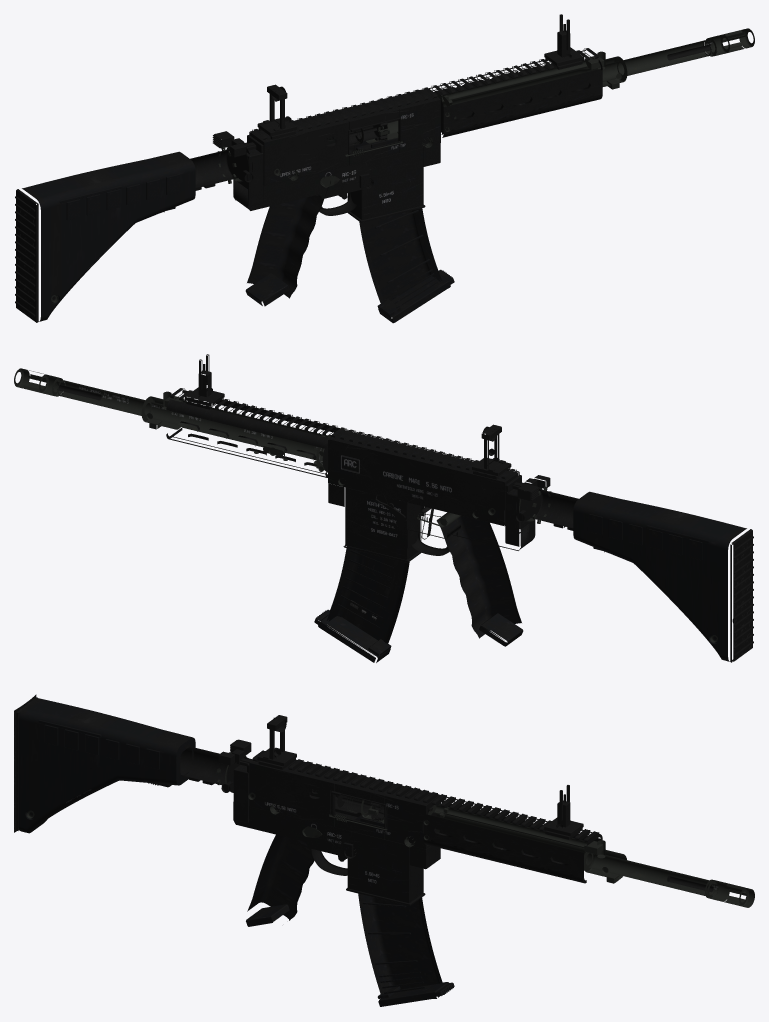
The picture shows the model from 3 angles, top to bottom: view 1: azimuth 30°, elevation 25°; view 2: azimuth 150°, elevation 25°; view 3: azimuth 330°, elevation 25°; orthographic projection.
Visible parts, largest first — view 1: stock_shell, upper_body, lower_body, handguard_mlok, pmag_body, pistol_grip, butt_pad, barrel, pmag_base, buffer_tube, handguard_rail, upper_rail (+6 smaller); view 2: stock_shell, upper_body, lower_body, pmag_body, pistol_grip, barrel, handguard_mlok, butt_pad, pmag_base, buffer_tube, handguard_rail, upper_rail (+7 smaller); view 3: stock_shell, lower_body, upper_body, pmag_body, handguard_mlok, pistol_grip, barrel, upper_rail, handguard_rail, buffer_tube, pmag_base, gas_tube (+7 smaller).
Boxes of the visible parts, left/top/right/bottom form: stock_shell: left=22, top=151, right=195, bottom=321; upper_body: left=247, top=89, right=441, bottom=186; lower_body: left=233, top=142, right=440, bottom=222; handguard_mlok: left=429, top=50, right=602, bottom=137; pmag_body: left=354, top=137, right=442, bottom=308; pistol_grip: left=247, top=187, right=328, bottom=298; butt_pad: left=15, top=189, right=38, bottom=322; barrel: left=366, top=37, right=717, bottom=143; pmag_base: left=377, top=269, right=454, bottom=323; buffer_tube: left=190, top=149, right=241, bottom=190; handguard_rail: left=431, top=48, right=598, bottom=96; upper_rail: left=252, top=87, right=437, bottom=139; stock_shell: left=573, top=491, right=746, bottom=661; upper_body: left=323, top=429, right=521, bottom=526; lower_body: left=328, top=482, right=535, bottom=562; pmag_body: left=326, top=489, right=409, bottom=643; pistol_grip: left=436, top=512, right=521, bottom=638; barrel: left=52, top=377, right=327, bottom=470; handguard_mlok: left=166, top=390, right=339, bottom=477; butt_pad: left=730, top=529, right=753, bottom=662; pmag_base: left=314, top=609, right=391, bottom=662; buffer_tube: left=527, top=489, right=578, bottom=530; handguard_rail: left=170, top=388, right=337, bottom=436; upper_rail: left=331, top=427, right=516, bottom=479; stock_shell: left=18, top=698, right=195, bottom=833; lower_body: left=230, top=757, right=440, bottom=905; upper_body: left=247, top=759, right=440, bottom=849; pmag_body: left=355, top=815, right=442, bottom=994; handguard_mlok: left=422, top=797, right=602, bottom=883; pistol_grip: left=247, top=815, right=314, bottom=920; barrel: left=361, top=800, right=718, bottom=898; upper_rail: left=252, top=750, right=438, bottom=803; handguard_rail: left=431, top=794, right=599, bottom=842; buffer_tube: left=180, top=746, right=229, bottom=785; pmag_base: left=377, top=982, right=454, bottom=1006; gas_tube: left=432, top=803, right=587, bottom=847.
Bounding box in the file's own units: 811 × 275 × 53.1.
Materials: 13 (13 with a texture image).
